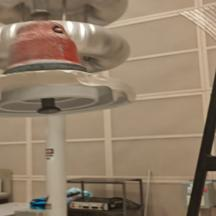insulator: (0, 10, 144, 122)
